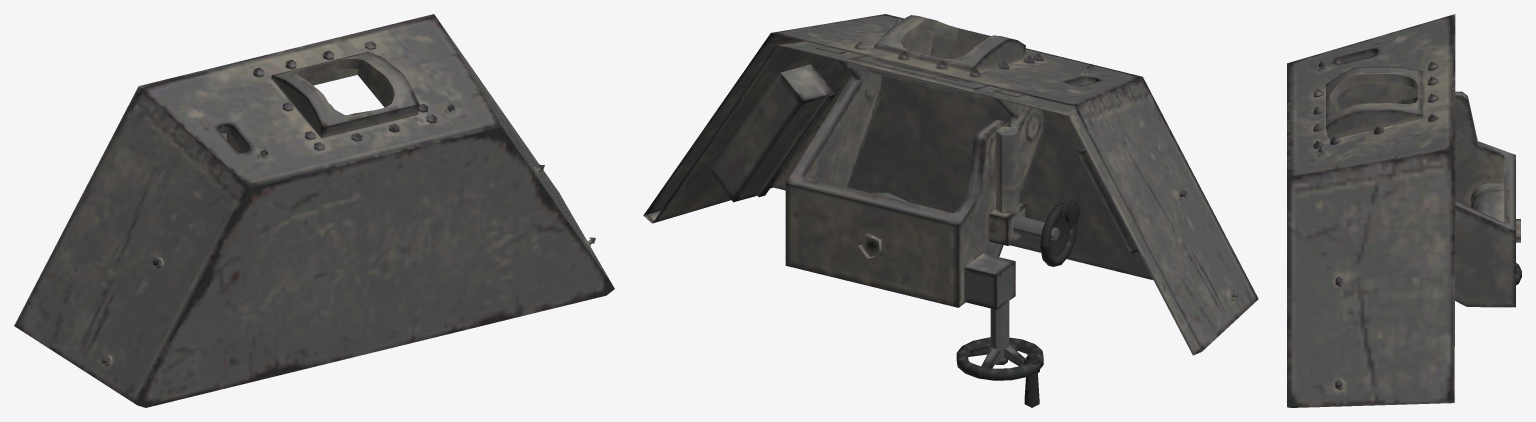
The model's file is Turret_01.glb.
3 views of the same model, side by side, from view 1: azimuth 30°, elevation 25°; view 2: azimuth 150°, elevation 25°; view 3: azimuth 270°, elevation 25° (orthographic). The views are drawn at different scales.
Parts seen in each view (by area): view 1: set_0_group_0; view 2: set_0_group_0; view 3: set_0_group_0.
Boxes of the visible parts, bbox=[...] form: set_0_group_0: bbox=[14, 14, 614, 407]; set_0_group_0: bbox=[643, 14, 1258, 407]; set_0_group_0: bbox=[1287, 14, 1521, 407].
Bounding box in the file's own units: 1.7 × 0.8639 × 0.6762.
1 material, 1 textured.
